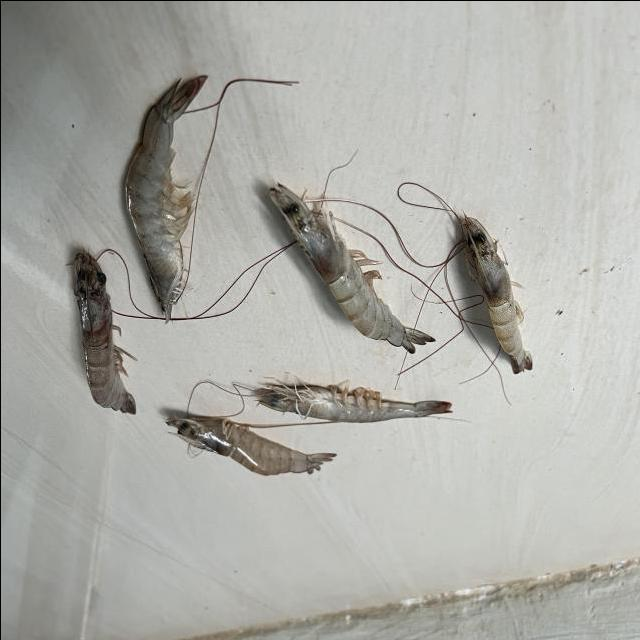shrimp: (268, 184, 434, 353), (124, 74, 206, 322), (463, 216, 532, 373), (71, 252, 134, 414), (164, 418, 335, 476), (255, 380, 452, 423)
